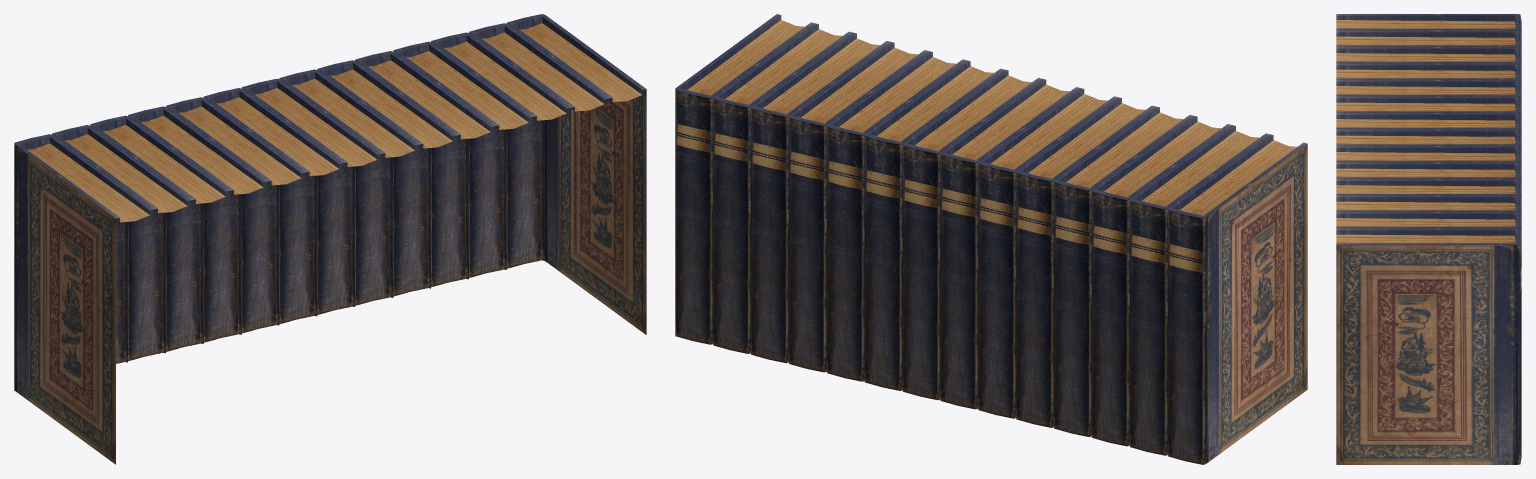
Rendered from PROPS_booksCollection_03.FBX.
The picture shows the model from 3 angles, left to right: view 1: azimuth 30°, elevation 25°; view 2: azimuth 150°, elevation 25°; view 3: azimuth 270°, elevation 25°; orthographic projection. The views are drawn at different scales.
Parts seen in each view (by area): view 1: PROPS_booksCollection_03; view 2: PROPS_booksCollection_03; view 3: PROPS_booksCollection_03.
Boxes of the visible parts, x1=… form: PROPS_booksCollection_03: x1=14, y1=14, x2=646, y2=464; PROPS_booksCollection_03: x1=675, y1=14, x2=1307, y2=464; PROPS_booksCollection_03: x1=1336, y1=14, x2=1521, y2=464.
Size of the model in its own units: 65.37 by 29 by 22.15.
1 material, 1 textured.
